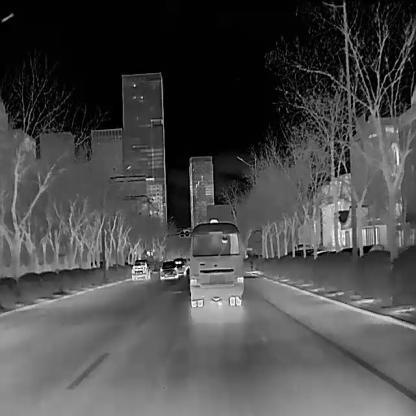car: (187, 217, 246, 307), (130, 258, 150, 278), (159, 259, 178, 280), (175, 258, 186, 275)
